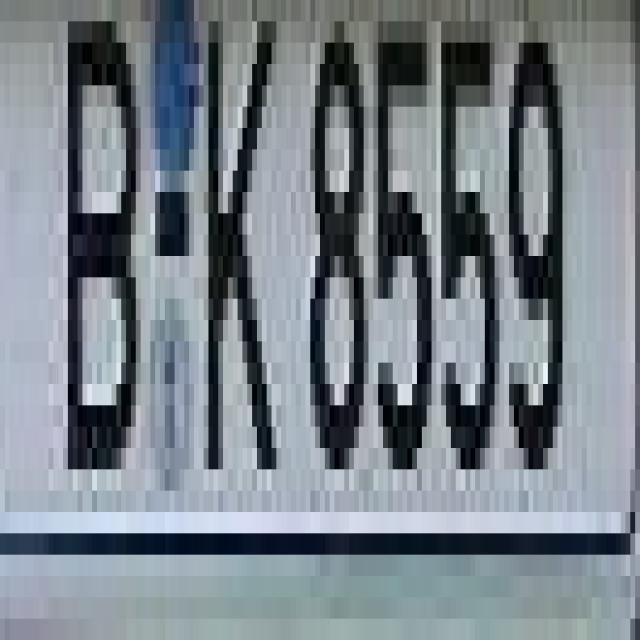5: (374, 42, 436, 490), (442, 22, 494, 470)
8: (301, 22, 368, 470)
9: (500, 0, 572, 512)
B: (62, 22, 150, 470)
K: (204, 42, 282, 490)
